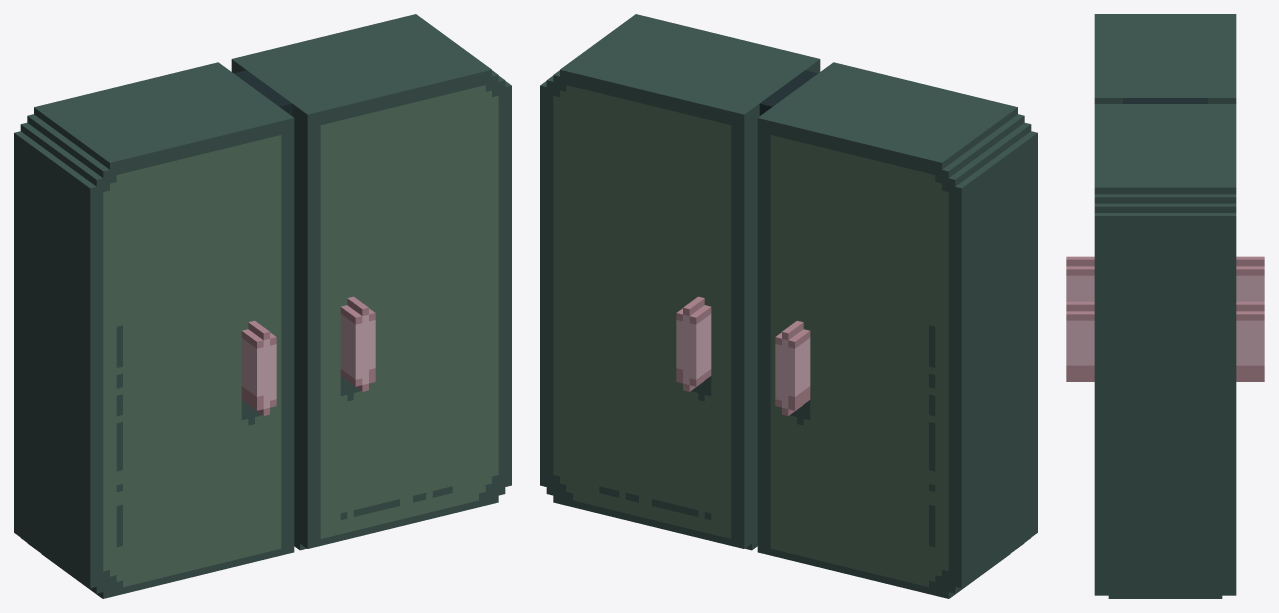
The model's file is ust_dolap.fbx.
3 views of the same model, side by side, from view 1: azimuth 30°, elevation 25°; view 2: azimuth 150°, elevation 25°; view 3: azimuth 270°, elevation 25° (orthographic). The views are drawn at different scales.
Visible parts, largest first — view 1: generated; view 2: generated; view 3: generated.
Part boxes in pixels (x1,y1,x2,y2): generated: [14, 14, 511, 598]; generated: [540, 14, 1037, 598]; generated: [1066, 14, 1264, 598].
Bounding box in the file's own units: 640 × 640 × 280.
